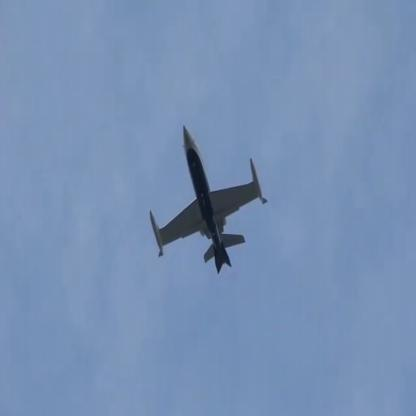CIV_Plane: (145, 124, 270, 276)
